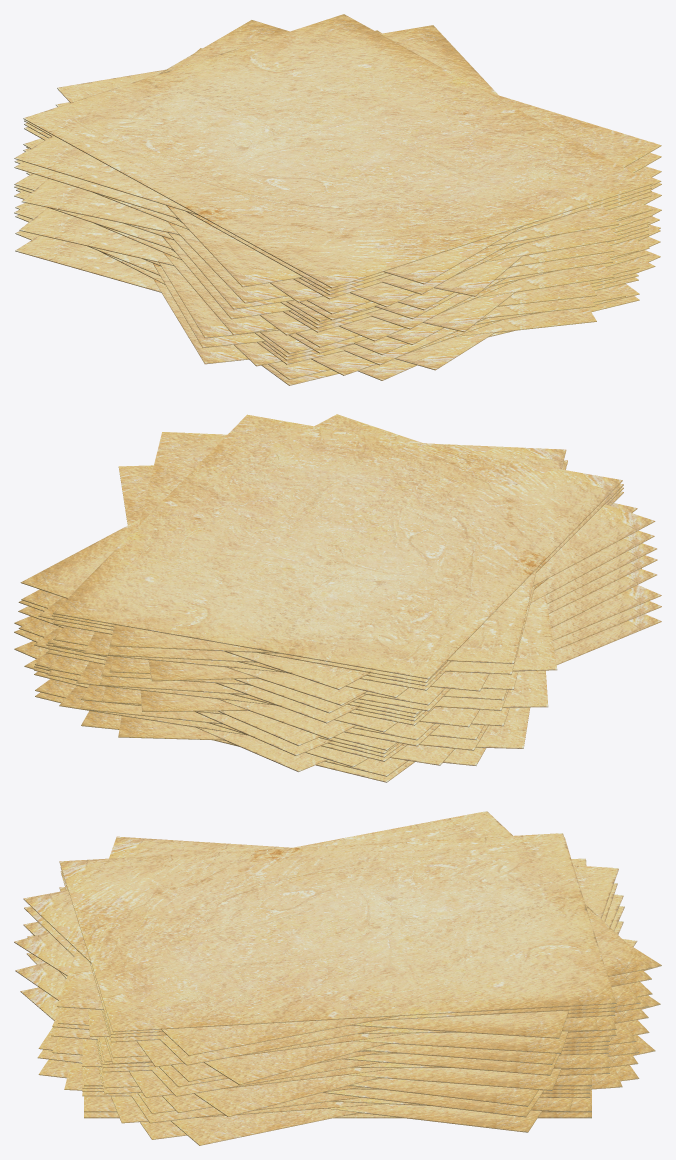
The model's file is Paper stack.fbx.
3 renders of one model, top to bottom at view 1: azimuth 30°, elevation 25°; view 2: azimuth 150°, elevation 25°; view 3: azimuth 270°, elevation 25°, orthographic.
Visible parts, largest first — view 1: polySurface71; view 2: polySurface71; view 3: polySurface71.
Boxes of the visible parts, bbox=[...] form: polySurface71: bbox=[14, 14, 661, 385]; polySurface71: bbox=[14, 414, 661, 782]; polySurface71: bbox=[14, 811, 661, 1145].
Size of the model in its own units: 1.45 by 0.2579 by 1.51.
Materials: 1 (1 with a texture image).
